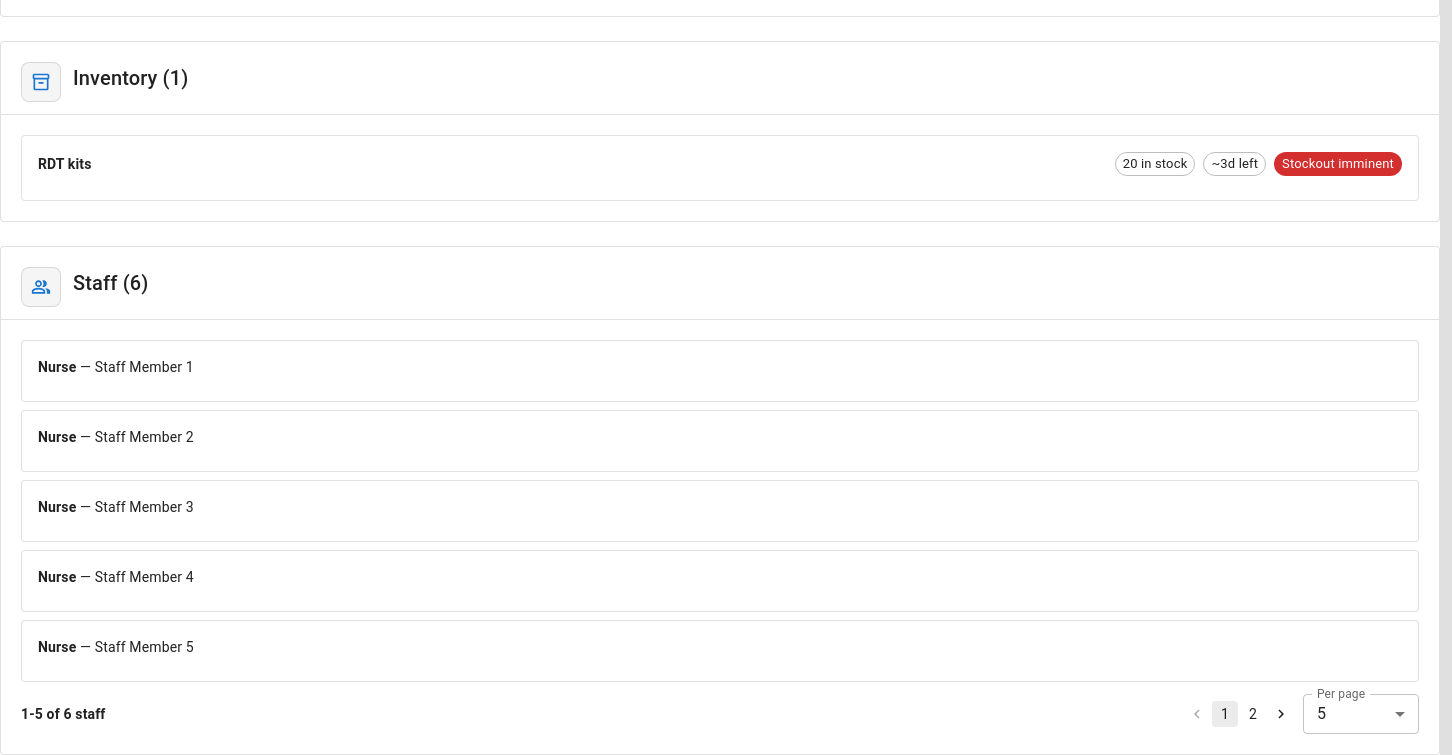
Test case: FacilityDetailScreen › paginates growable facility detail sections
(page scrolled)
Expected: the text "Nurse — Staff Member 1" is shown, [38, 357, 194, 377]
Expected: the text "Staff Member 6" is not shown
Click the button named "go to page 2".
click(1253, 714)  # box [1240, 701, 1266, 727]
(page scrolled)
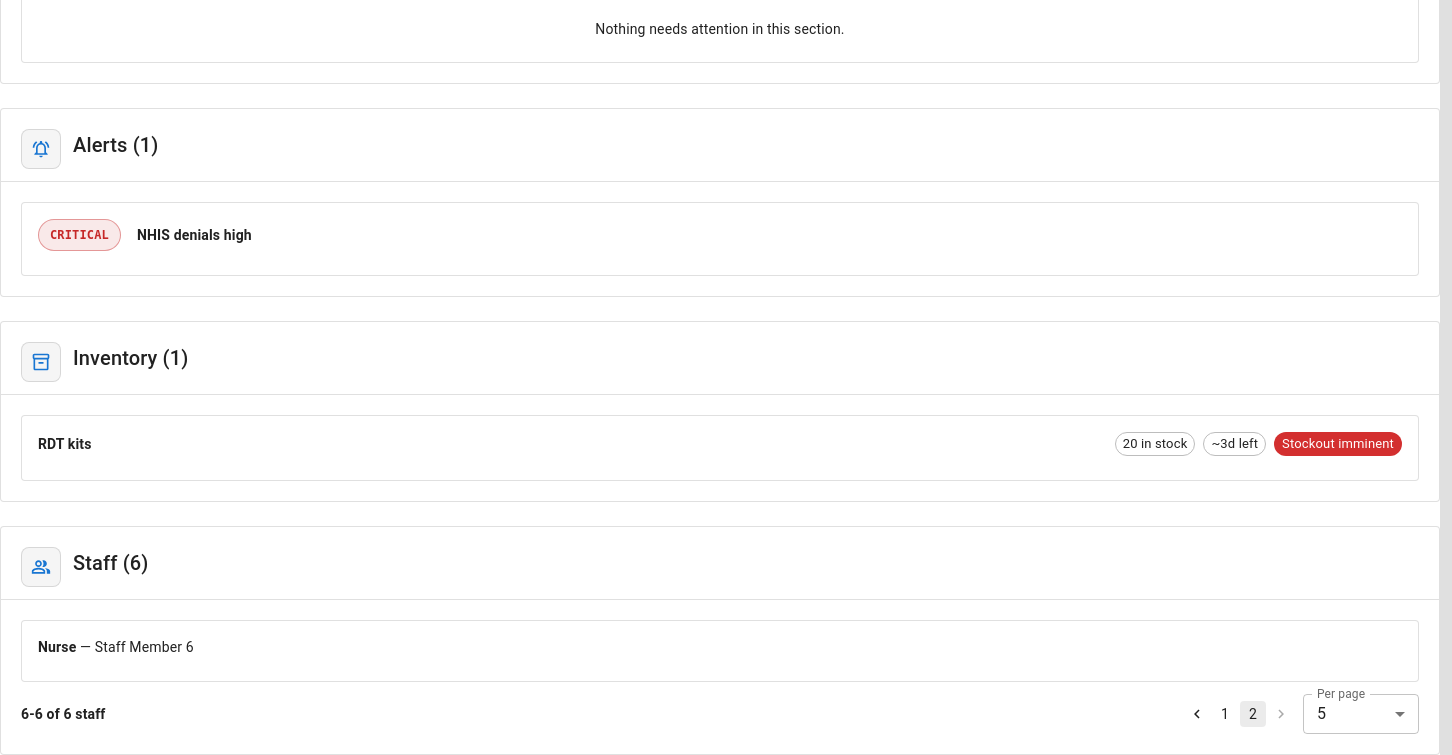
Expected: the text "Nurse — Staff Member 6" is shown, [38, 637, 194, 657]
Expected: the text "Staff Member 1" is gone
